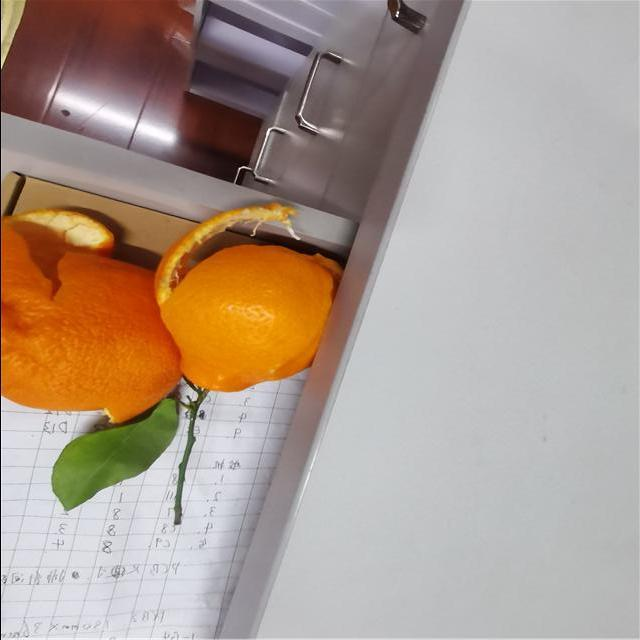orange peel: (1, 211, 178, 426), (156, 204, 340, 388)
